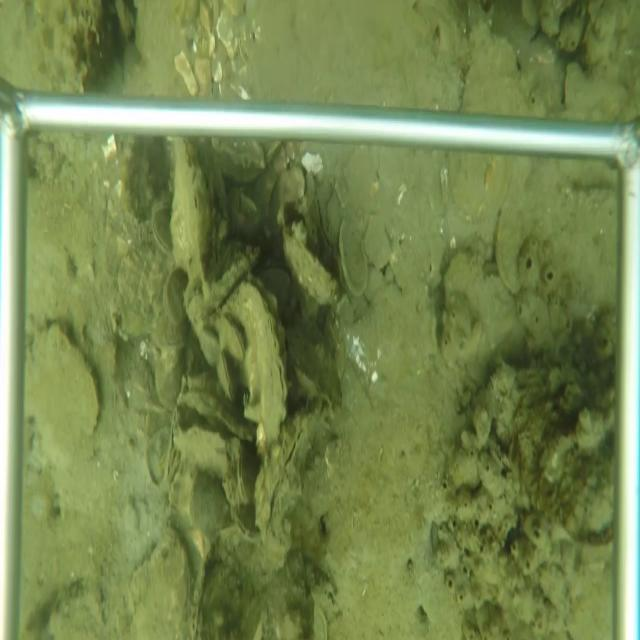Oyster-Closed: (220, 278, 292, 458), (256, 399, 322, 553), (167, 137, 213, 305), (285, 226, 341, 311), (161, 401, 183, 521), (188, 539, 214, 639), (234, 443, 251, 512)
Oyster-Indeterminate: (28, 316, 103, 466), (461, 25, 550, 117), (119, 528, 192, 639)
